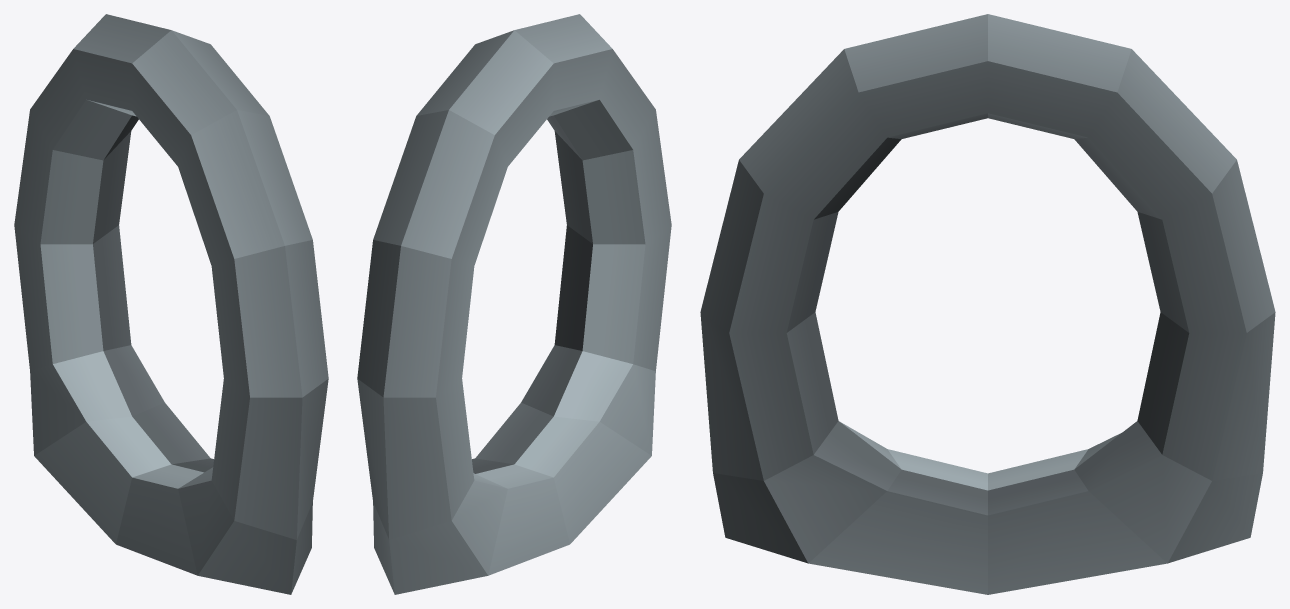
The model's file is portal.glb.
3 views of the same model, side by side, from view 1: azimuth 30°, elevation 25°; view 2: azimuth 150°, elevation 25°; view 3: azimuth 270°, elevation 25° (orthographic). The views are drawn at different scales.
Parts seen in each view (by area): view 1: Torus; view 2: Torus; view 3: Torus.
Part boxes in pixels (x1=…): Torus: x1=14, y1=14, x2=328, y2=594; Torus: x1=357, y1=14, x2=671, y2=594; Torus: x1=700, y1=14, x2=1275, y2=594.
Size of the model in its own units: 1.26 by 5.36 by 5.
1 material, 1 textured.
